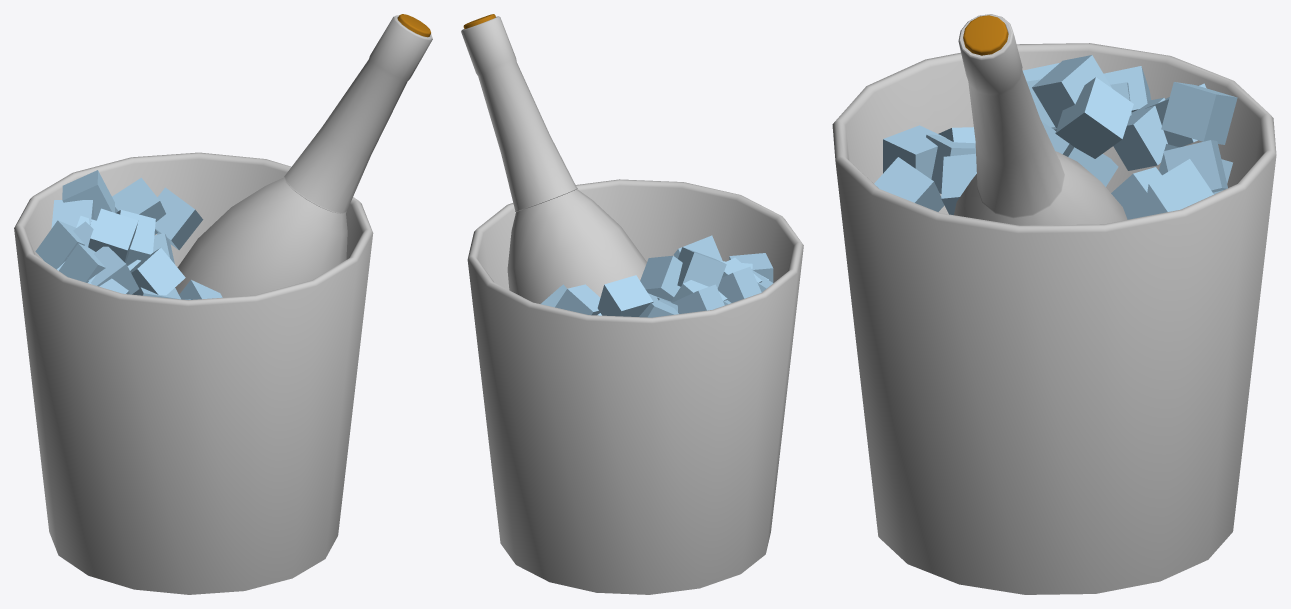
The model's file is Ice-And-Wine.fbx.
The picture shows the model from 3 angles, left to right: view 1: azimuth 30°, elevation 25°; view 2: azimuth 150°, elevation 25°; view 3: azimuth 270°, elevation 25°; orthographic projection. The views are drawn at different scales.
Visible parts, largest first — view 1: Ice-And-Wine; view 2: Ice-And-Wine; view 3: Ice-And-Wine.
Part boxes in pixels (x1=…): Ice-And-Wine: x1=14, y1=14, x2=432, y2=594; Ice-And-Wine: x1=461, y1=14, x2=803, y2=594; Ice-And-Wine: x1=832, y1=14, x2=1276, y2=594.
Bounding box in the file's own units: 0.4153 × 0.5377 × 0.3518.
